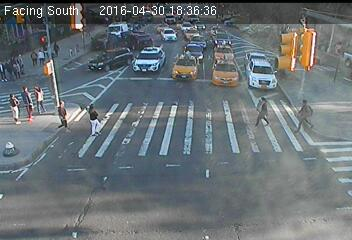neg: (152, 90, 183, 132), (203, 30, 232, 68), (227, 27, 255, 64), (169, 39, 196, 75), (91, 54, 115, 86), (277, 27, 299, 56), (140, 48, 160, 73), (321, 27, 337, 49)
pos: (293, 95, 320, 131), (249, 94, 276, 130), (14, 84, 41, 120), (79, 101, 105, 135), (28, 80, 53, 115), (50, 97, 75, 130), (36, 48, 50, 67), (8, 58, 21, 76), (51, 41, 63, 58)
